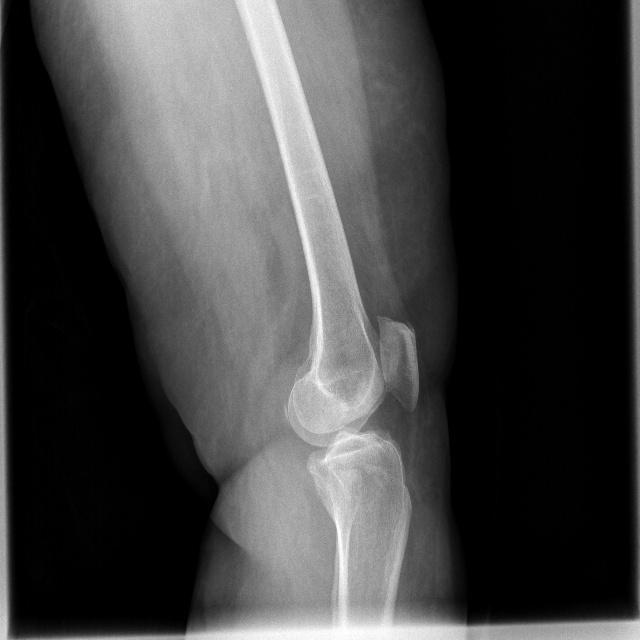Knee: (282, 315, 421, 514)
